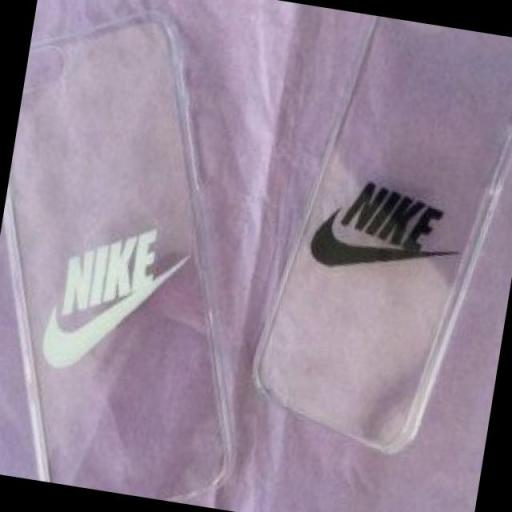Nike: (60, 218, 162, 328), (306, 227, 436, 282)
